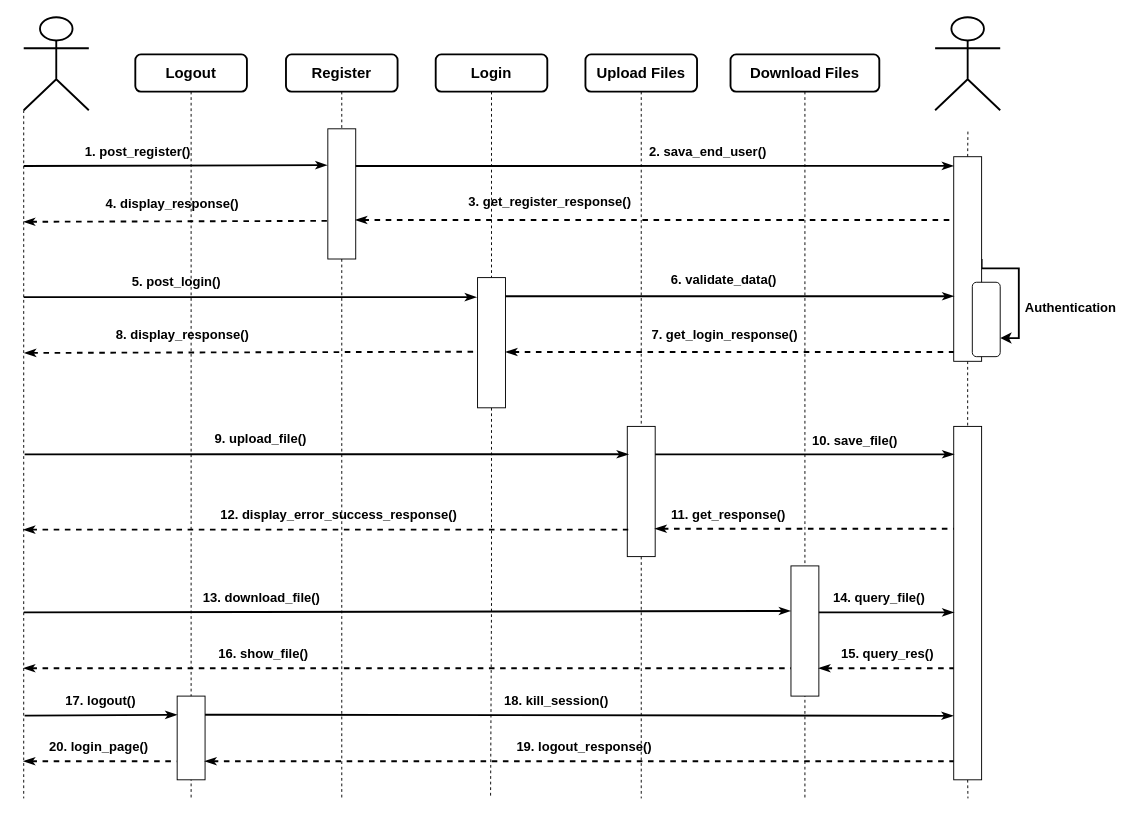
The diagram is 1137 pixels wide and 816 high, and some of its shapes have lost their labels. Each missing label, with the box of its shape:
Database: (934, 16, 1001, 111)
End User: (22, 16, 89, 111)
